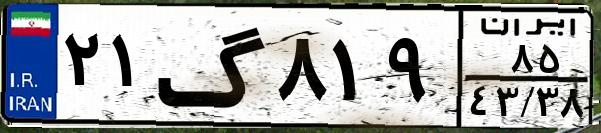1: (330, 28, 385, 110), (110, 28, 156, 98)
2: (57, 26, 110, 100)
3: (495, 70, 520, 125), (535, 70, 560, 125)
4: (470, 70, 495, 125)
5: (537, 27, 568, 80)
8: (270, 28, 330, 110), (560, 70, 590, 125), (508, 27, 537, 80)
9: (385, 28, 445, 110)
گ: (156, 12, 270, 120)
